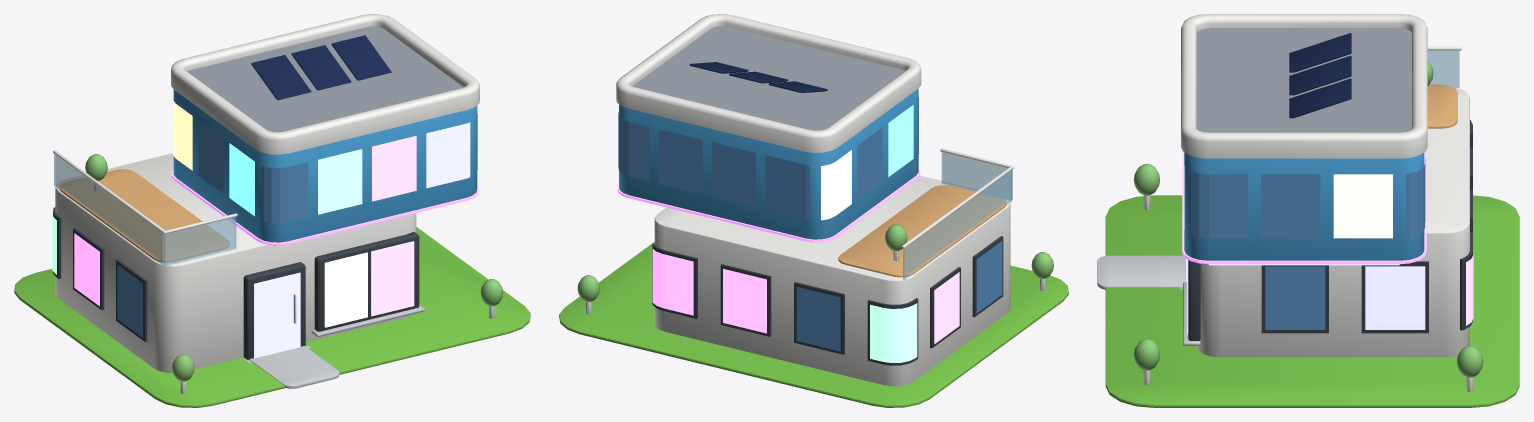
File: casa_modular_cubos_branca.glb
3 renders of one model, left to right at view 1: azimuth 30°, elevation 25°; view 2: azimuth 150°, elevation 25°; view 3: azimuth 270°, elevation 25°, orthographic. The views are drawn at different scales.
Visible parts, largest first — view 1: casa_modular_cubos_branca; view 2: casa_modular_cubos_branca; view 3: casa_modular_cubos_branca.
Part boxes in pixels (x1=…): casa_modular_cubos_branca: x1=14, y1=14, x2=530, y2=407; casa_modular_cubos_branca: x1=559, y1=14, x2=1068, y2=407; casa_modular_cubos_branca: x1=1097, y1=14, x2=1519, y2=407.
Bounding box in the file's own units: 12 × 7.16 × 10.2.
Materials: 10 (1 with a texture image).
